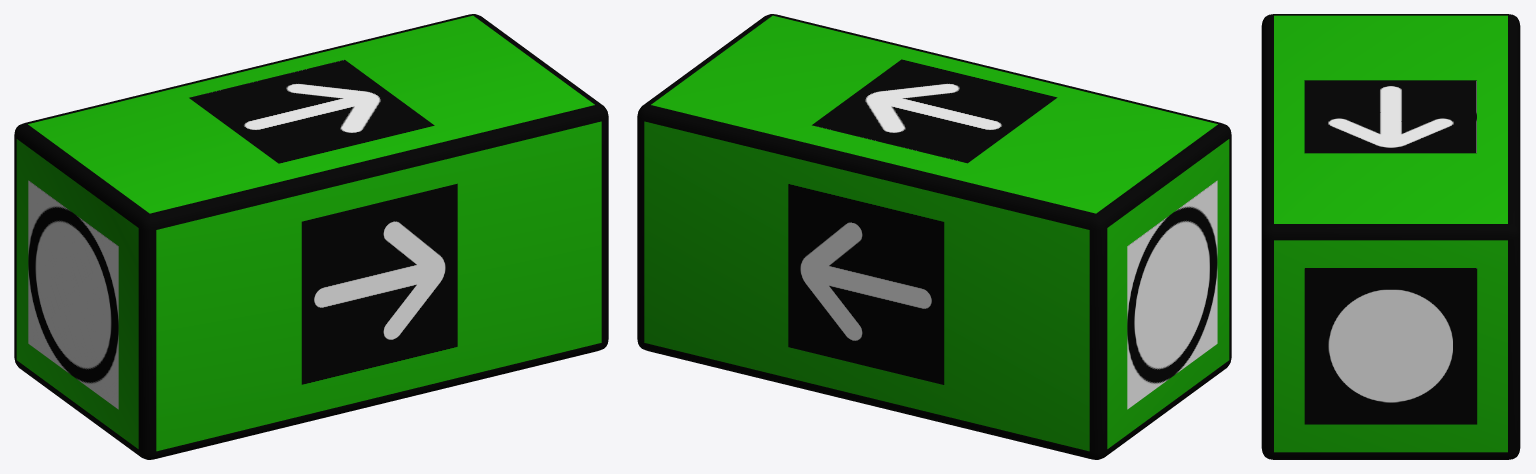
Rendered from BigBoxTapFlowBox_1_1_2_Line.fbx.
3 views of the same model, side by side, from view 1: azimuth 30°, elevation 25°; view 2: azimuth 150°, elevation 25°; view 3: azimuth 270°, elevation 25° (orthographic). The views are drawn at different scales.
Parts seen in each view (by area): view 1: BigBoxTapFlowBox_1_1_2_Line_test; view 2: BigBoxTapFlowBox_1_1_2_Line_test; view 3: BigBoxTapFlowBox_1_1_2_Line_test.
Part boxes in pixels (x1,y1,x2,y2): BigBoxTapFlowBox_1_1_2_Line_test: [14, 14, 608, 459]; BigBoxTapFlowBox_1_1_2_Line_test: [637, 14, 1231, 459]; BigBoxTapFlowBox_1_1_2_Line_test: [1261, 14, 1520, 459].
Bounding box in the file's own units: 2.11 × 1.07 × 1.06.
Materials: 1 (1 with a texture image).
